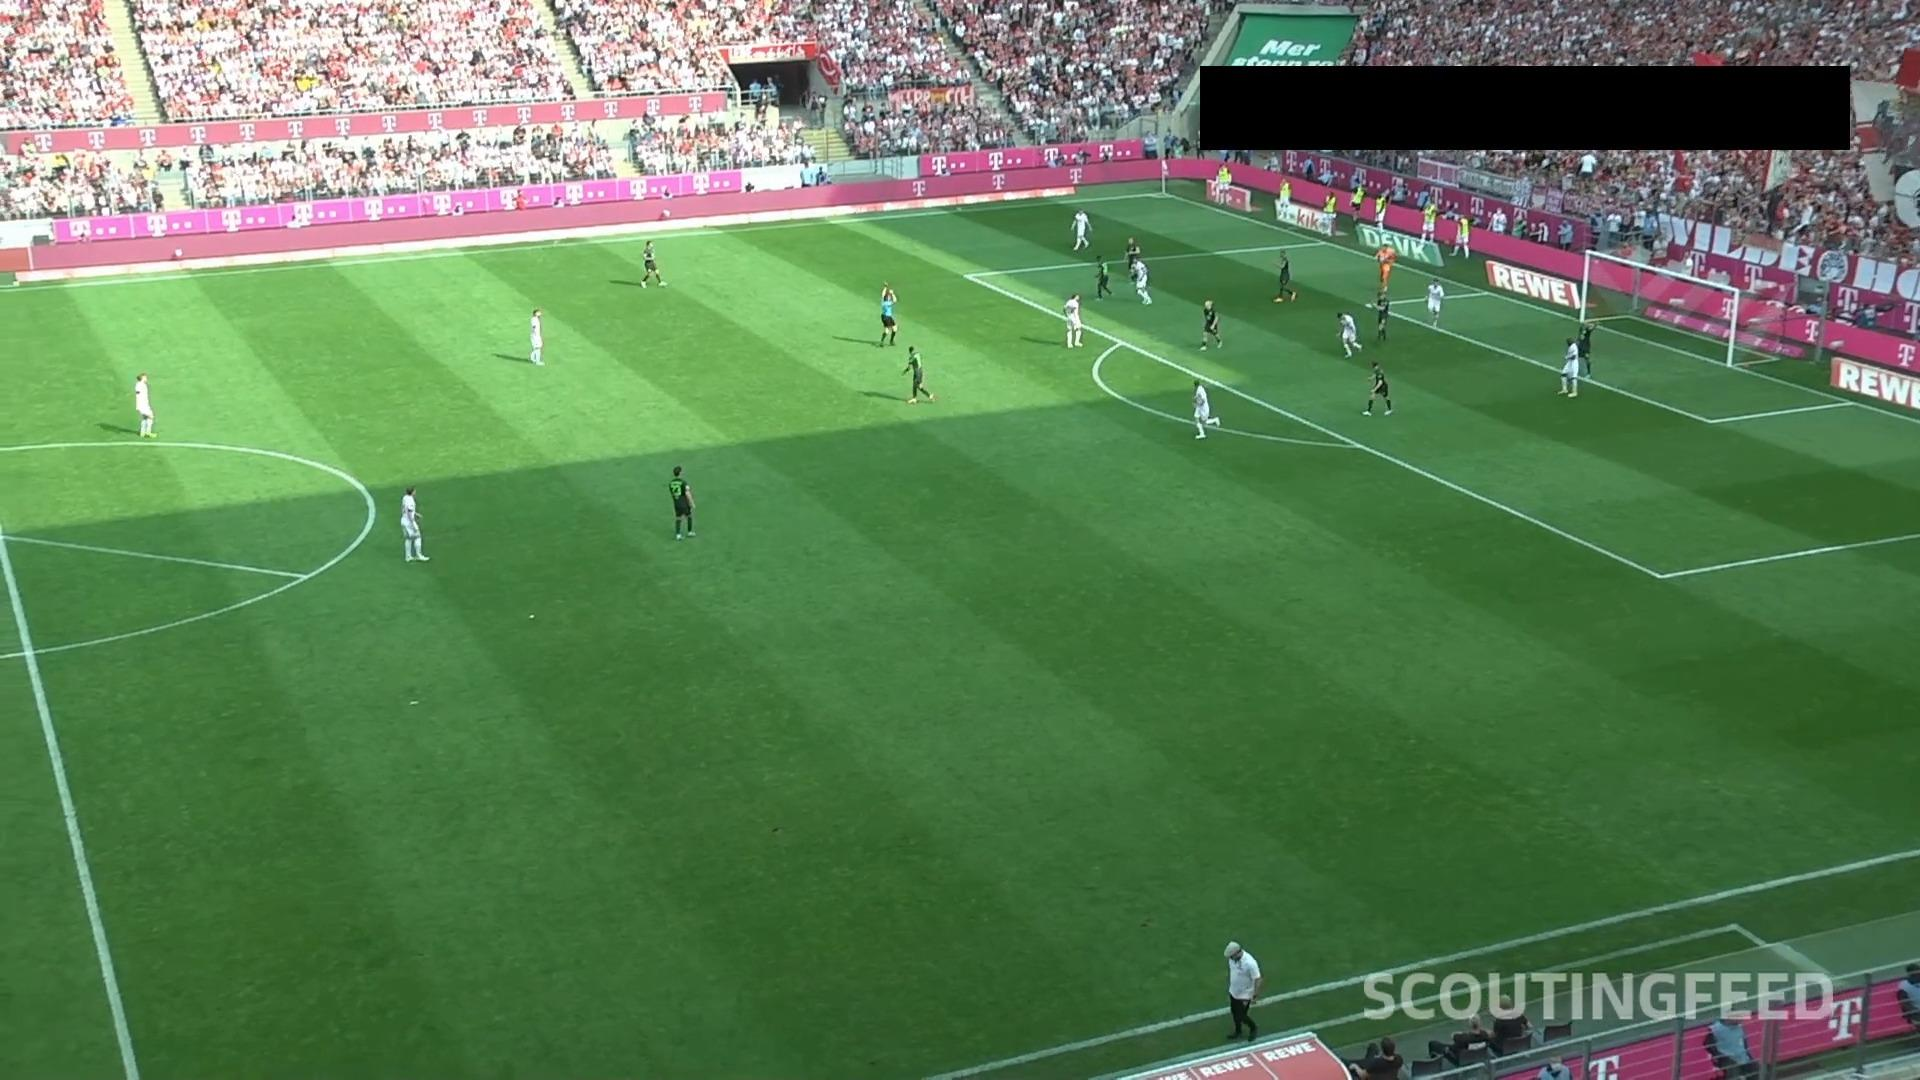ball: (1378, 255, 1386, 262)
